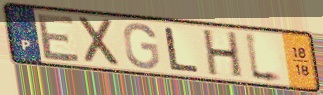E: (36, 12, 83, 63)
G: (121, 21, 162, 71)
H: (202, 28, 245, 80)
L: (242, 29, 287, 87), (164, 26, 202, 75)
X: (76, 15, 123, 69)
